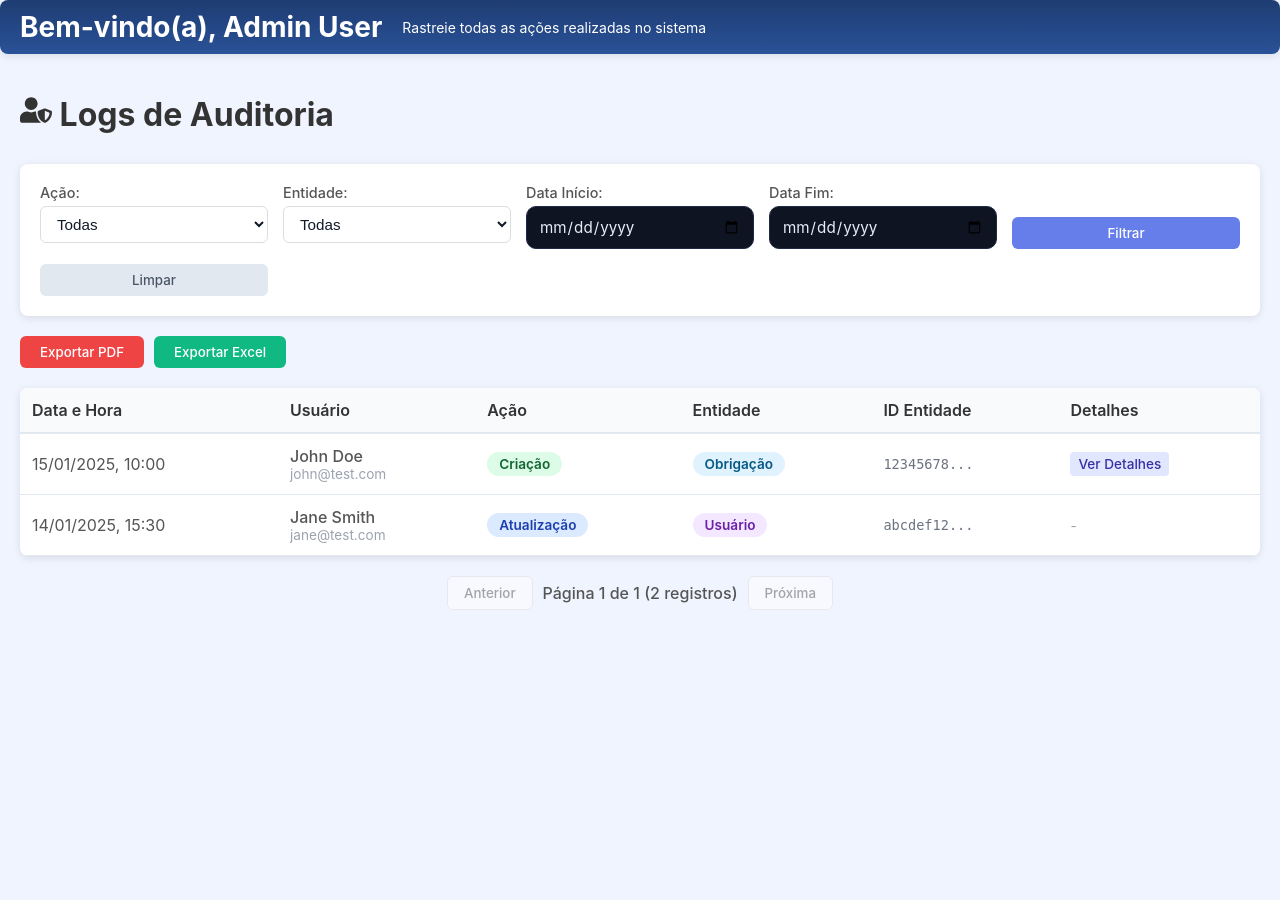
Scenario: AuditLog › Modal de Metadata › deve abrir modal ao clicar em Ver Detalhes
Click the button "Ver Detalhes" at [1120, 464], box [1070,452,1169,476]
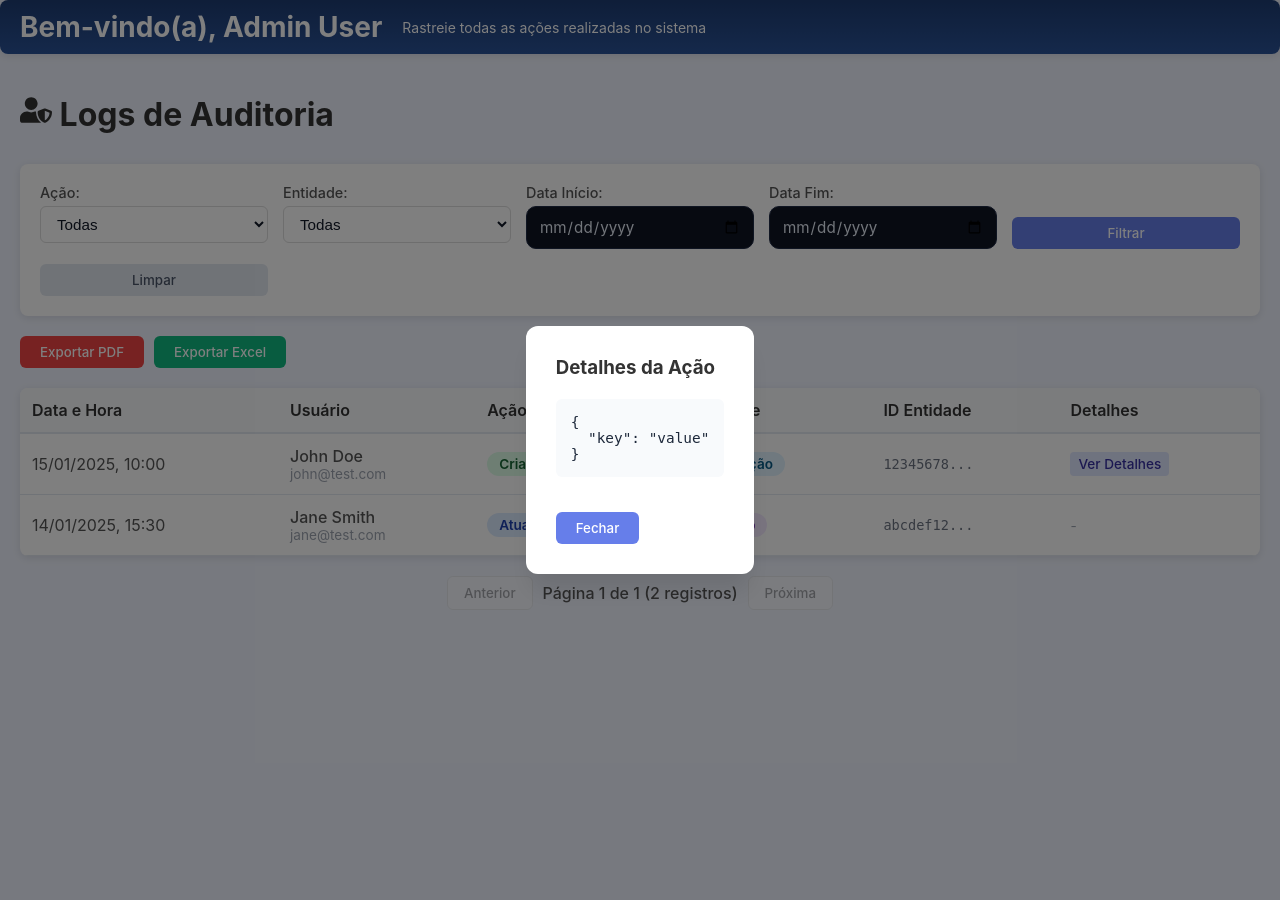
Expected: the heading "Detalhes da Ação" is shown, [556,356,724,379]
Expected: the text "{ \"key\": \"value\" }" is shown, [556,399,724,477]
